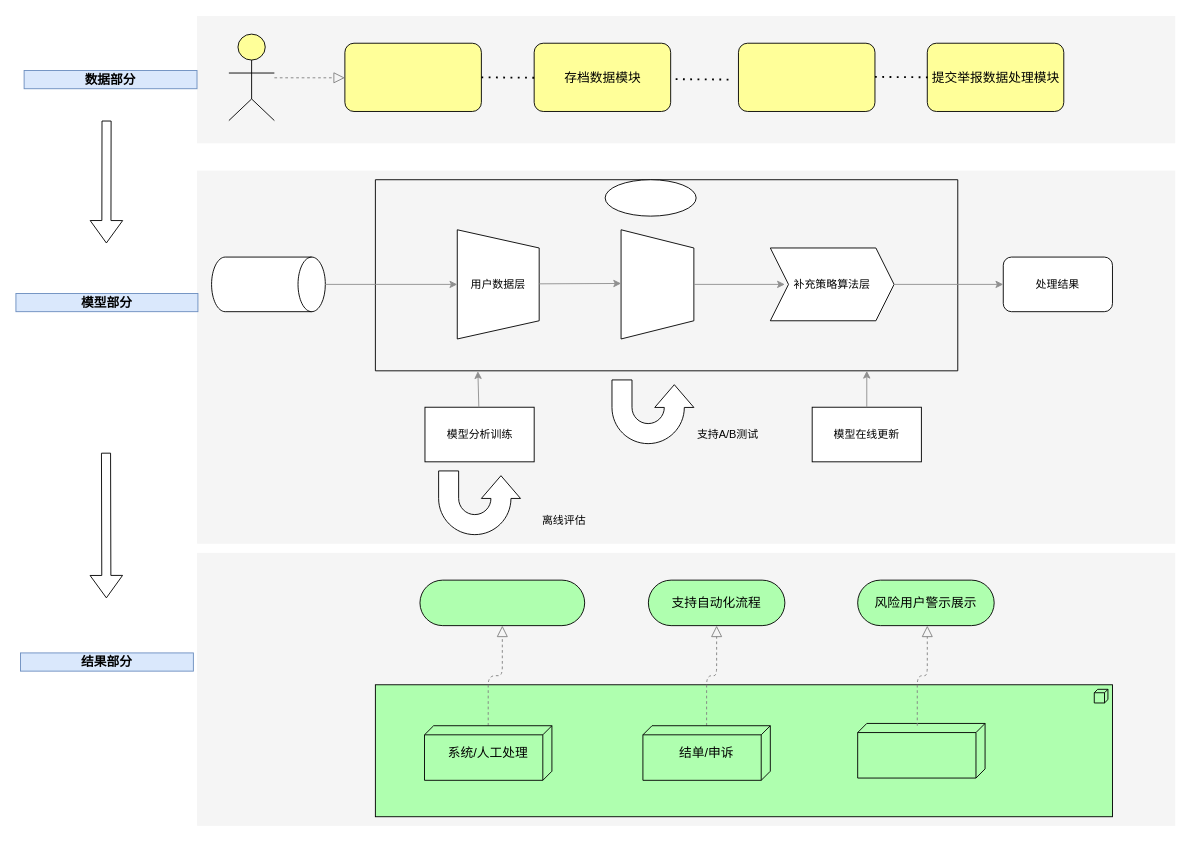
This 1191x841 diagram has some shape labels left out. Each missing label, with the centre of its shape:
"准实时聊天数据处理模块" belongs at (412,76).
"反欺诈 数据库" belongs at (268,284).
"反欺诈系统模型" belongs at (650,197).
"大数据平台离线数据处理模块" belongs at (806,76).
"客户端展示" belongs at (921,750).
"追诉期层" belongs at (657,284).
"通知相关用户/处罚相关用户" belongs at (502,602).
